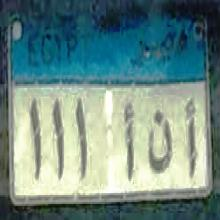1: (73, 96, 92, 182), (49, 92, 66, 181), (28, 95, 44, 180)
alif: (122, 102, 139, 180), (184, 93, 198, 179)
noon: (146, 107, 172, 185)
